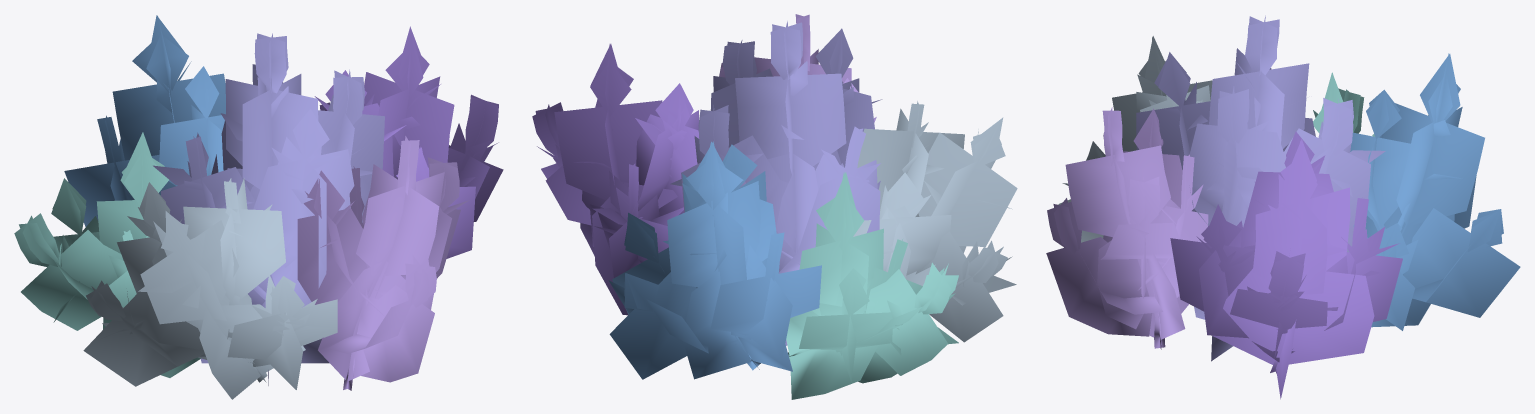
3 renders of one model, left to right at view 1: azimuth 30°, elevation 25°; view 2: azimuth 150°, elevation 25°; view 3: azimuth 270°, elevation 25°, orthographic.
Visible parts, largest first — view 1: SM_BS_CelosiaMA1_136cm_HD; view 2: SM_BS_CelosiaMA1_136cm_HD; view 3: SM_BS_CelosiaMA1_136cm_HD.
Part boxes in pixels (left/top/right/bottom): SM_BS_CelosiaMA1_136cm_HD: left=14, top=15, right=503, bottom=399; SM_BS_CelosiaMA1_136cm_HD: left=532, top=14, right=1017, bottom=399; SM_BS_CelosiaMA1_136cm_HD: left=1046, top=15, right=1520, bottom=399.
Size of the model in its own units: 59.82 by 64.8 by 45.21.
